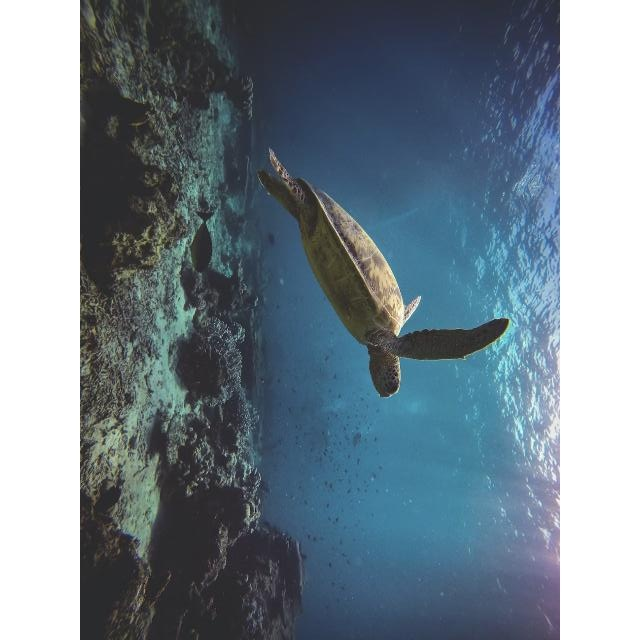turtle: (256, 146, 509, 398)
